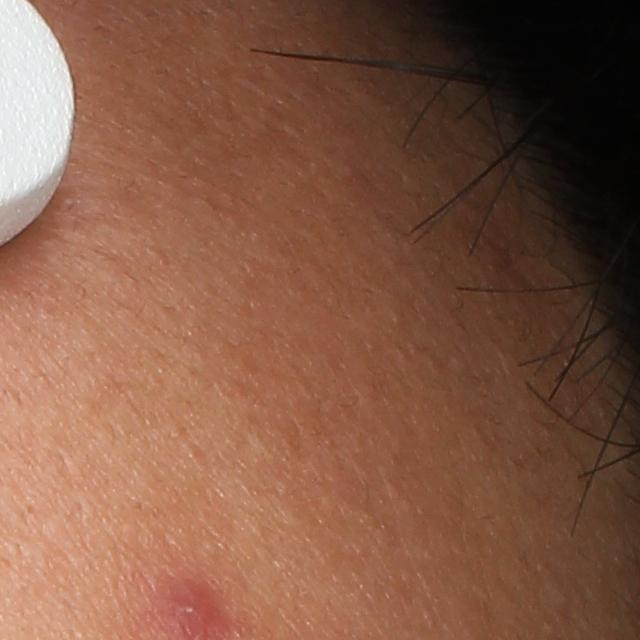papule: (160, 586, 214, 639)
